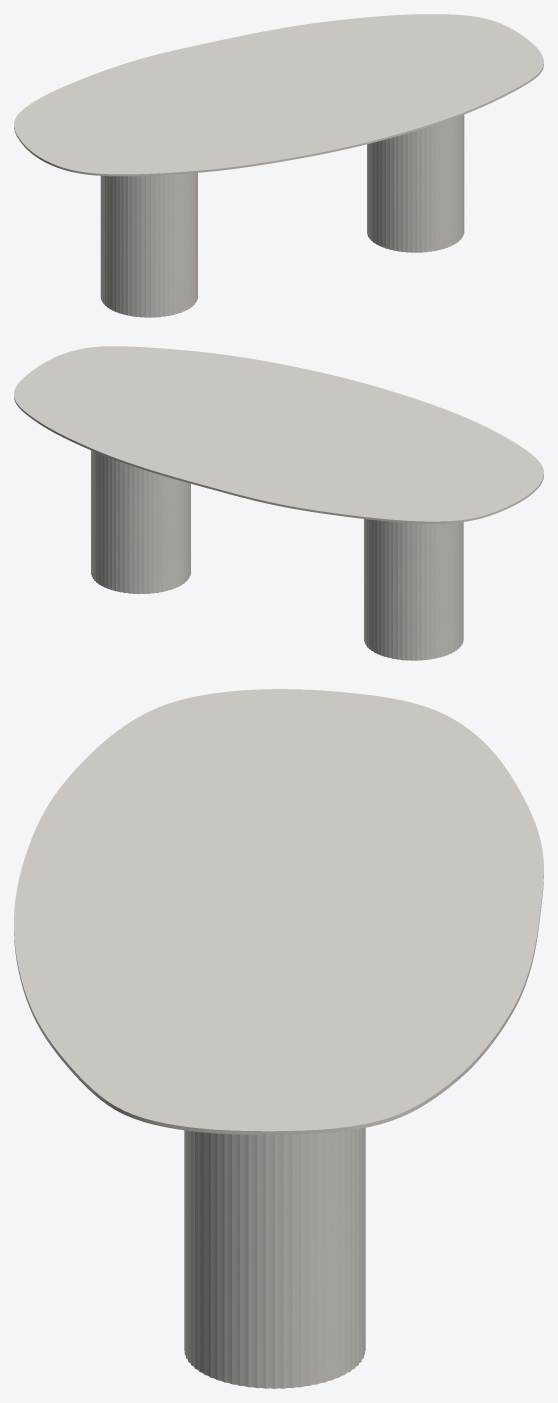
File: pearlwhite_danish_facet_ripplesecond.glb
3 views of the same model, one above another, from view 1: azimuth 30°, elevation 25°; view 2: azimuth 150°, elevation 25°; view 3: azimuth 270°, elevation 25° (orthographic). The views are drawn at different scales.
Visible parts, largest first — view 1: facet_danish, ripplesecond; view 2: facet_danish, ripplesecond; view 3: facet_danish, ripplesecond.
Part boxes in pixels (x1,y1,x2,y2): facet_danish: (14, 14, 543, 176); ripplesecond: (100, 115, 464, 317); facet_danish: (14, 346, 543, 523); ripplesecond: (91, 450, 463, 660); facet_danish: (14, 689, 543, 1134); ripplesecond: (184, 1128, 365, 1388).
Size of the model in its own units: 7.5 by 2.51 by 3.8.
1 material, 1 textured.
